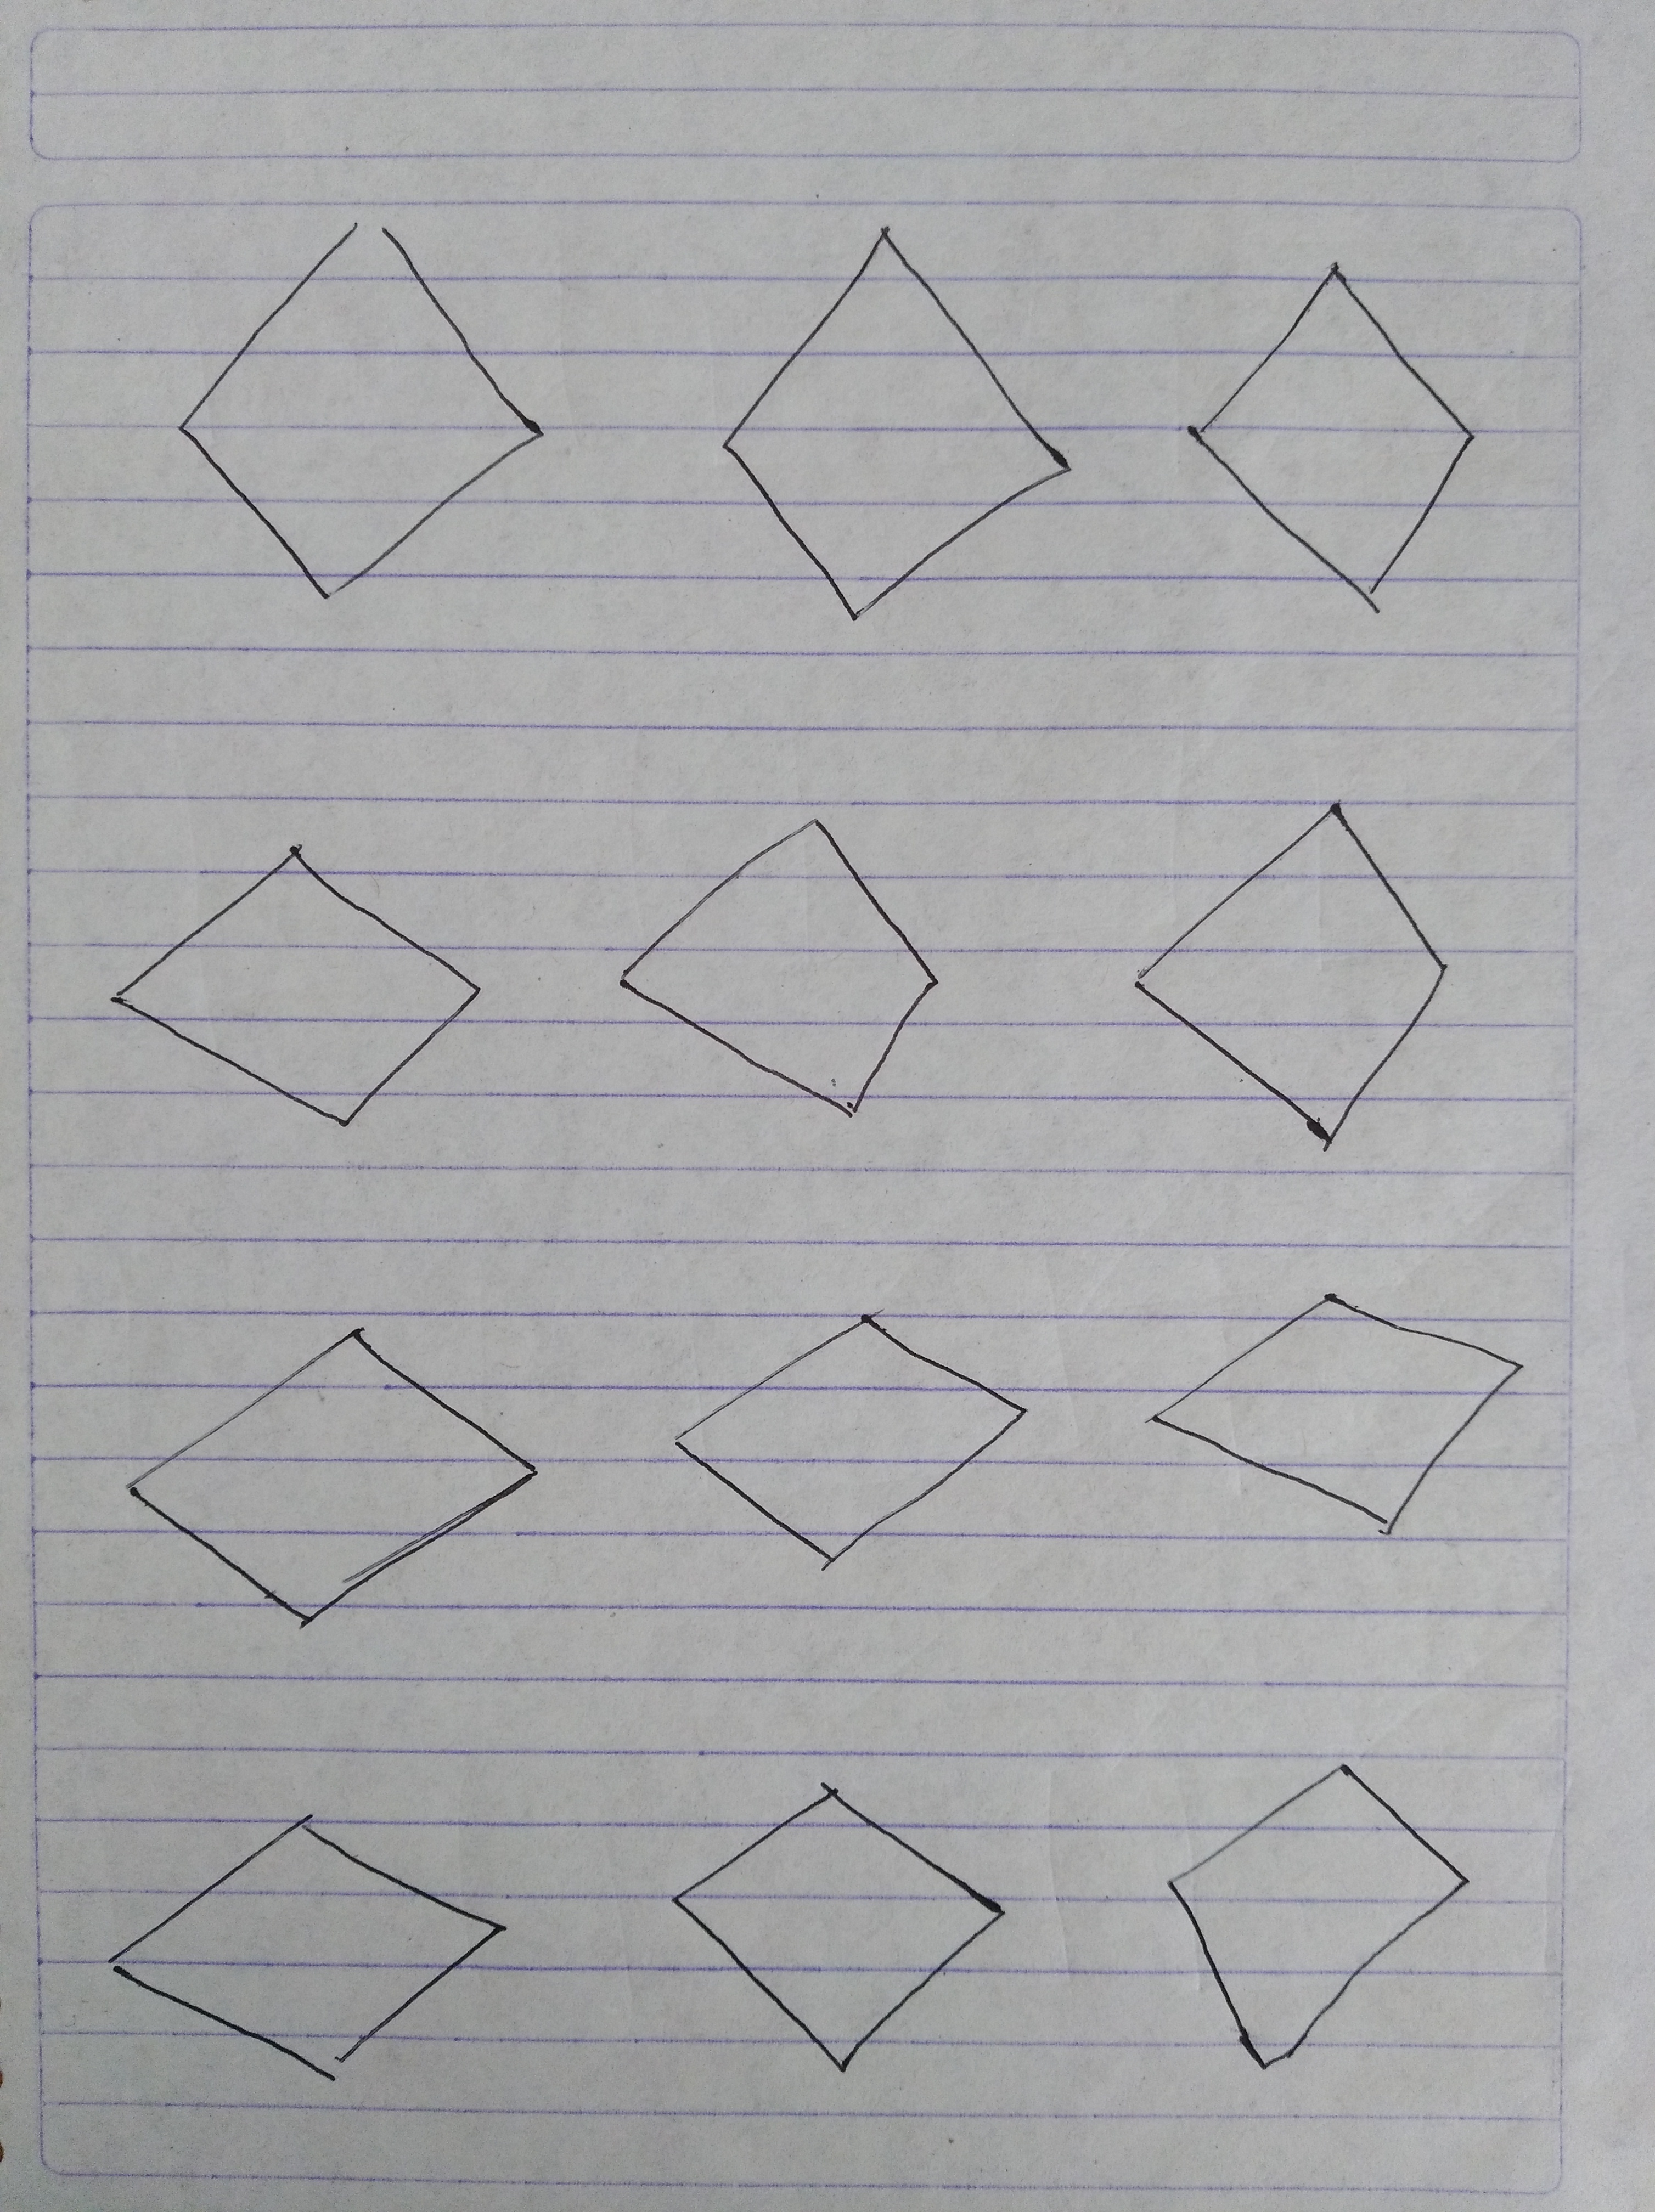decision: (122, 203, 582, 629), (699, 196, 1093, 653), (96, 1291, 575, 1661), (1097, 777, 1518, 1168), (75, 794, 513, 1164), (71, 1771, 530, 2118), (1168, 214, 1528, 643), (1121, 1249, 1566, 1583), (593, 801, 994, 1147), (633, 1281, 1066, 1600), (1121, 1746, 1500, 2094), (650, 1750, 1029, 2096)
